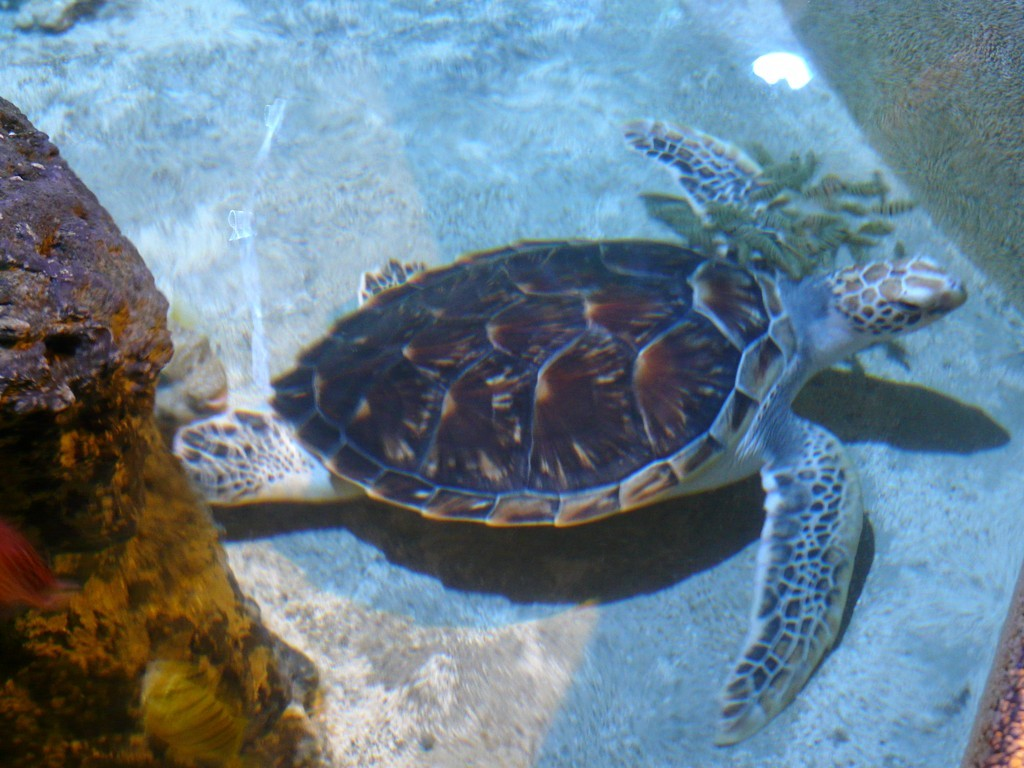Sea turtles: (179, 117, 967, 744)
